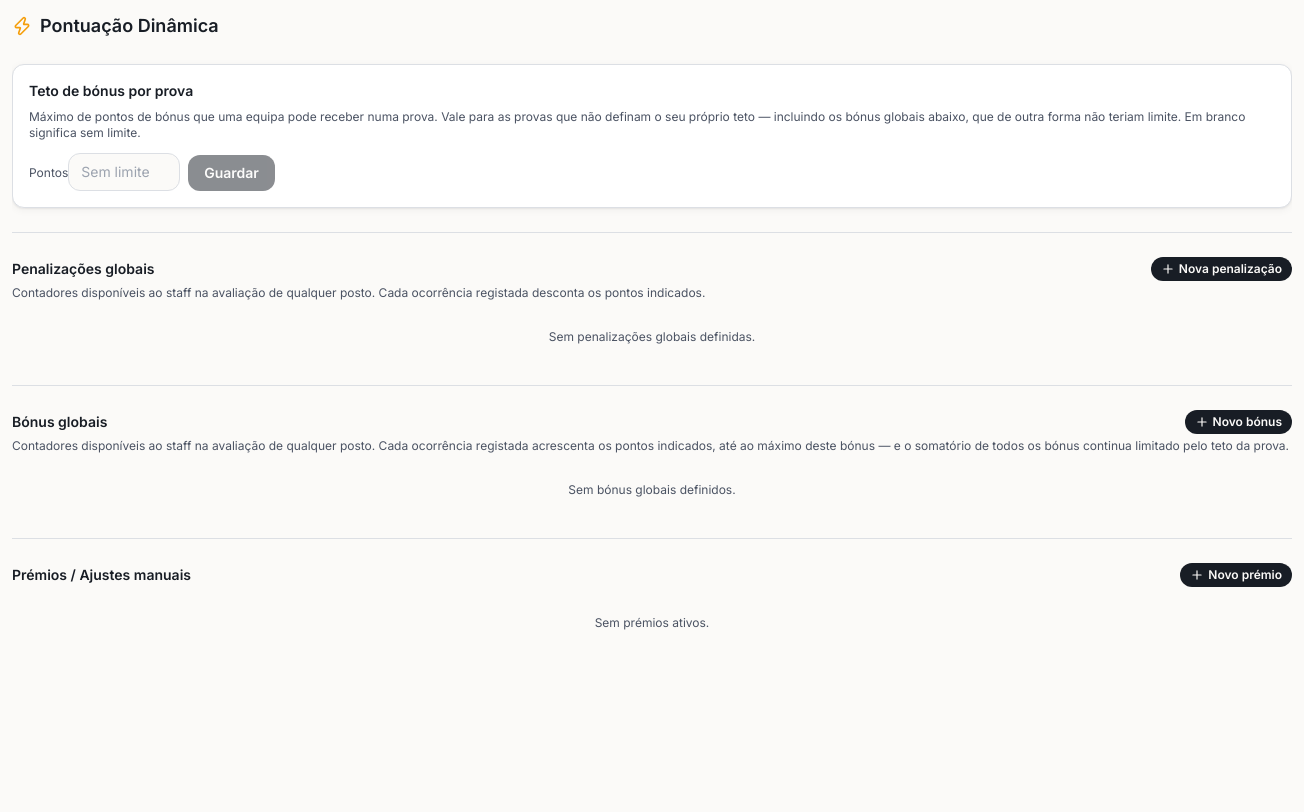
Test: DynamicScoringTab › disables create rule button until name and points are filled
Click the button "Nova penalização" at (1221, 269), box [1151, 257, 1292, 281]
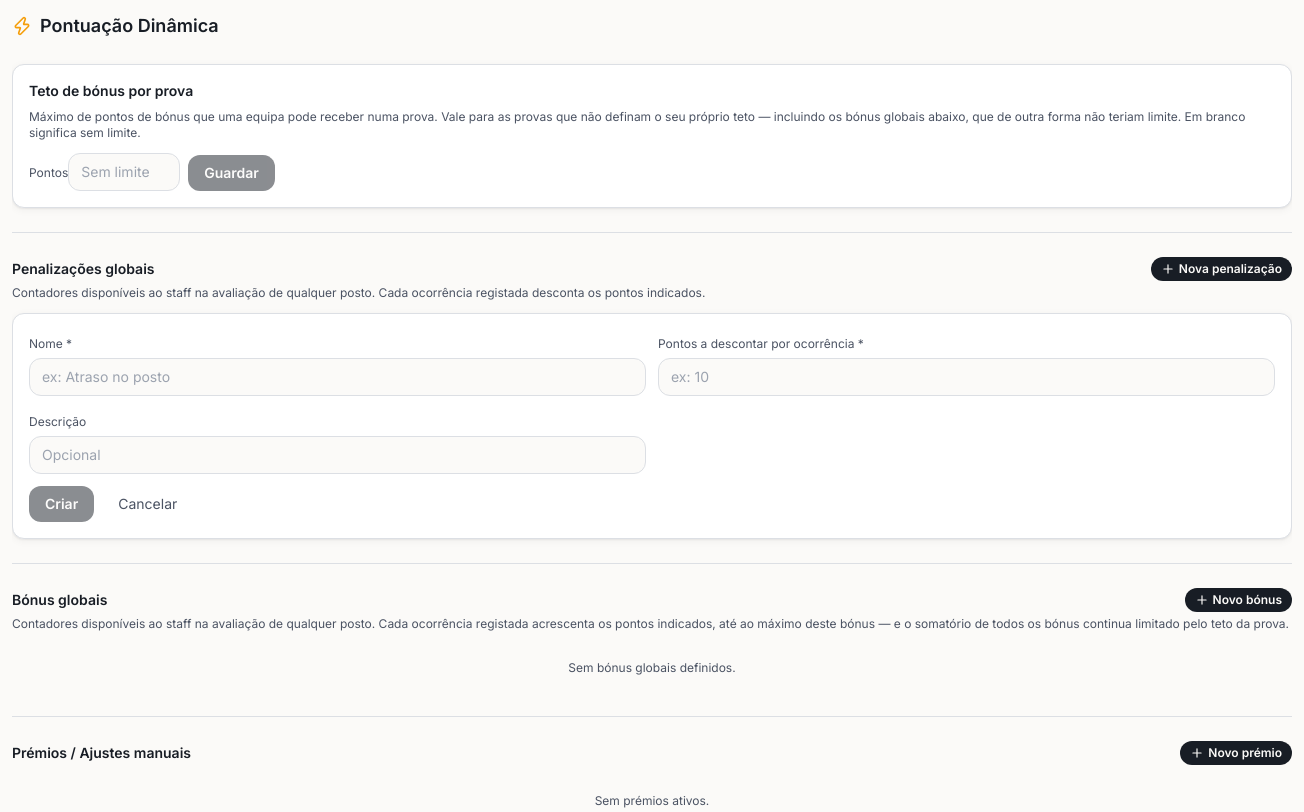
Check: the button "Criar" is disabled, box [29, 486, 94, 522]
